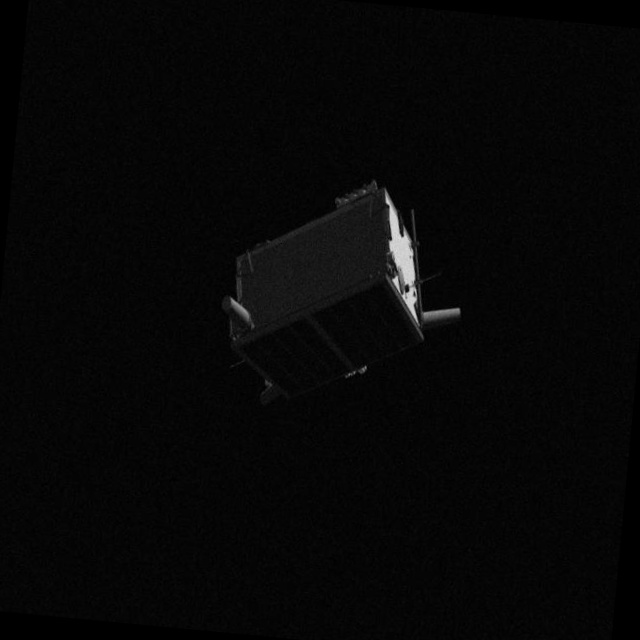medium_debris: (204, 161, 479, 441)
